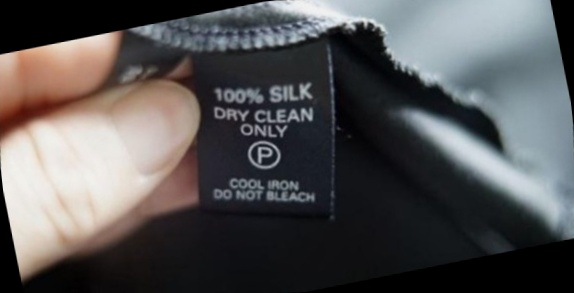dry_clean_any_solvent_except_trichloroethylene: (243, 133, 288, 175)
